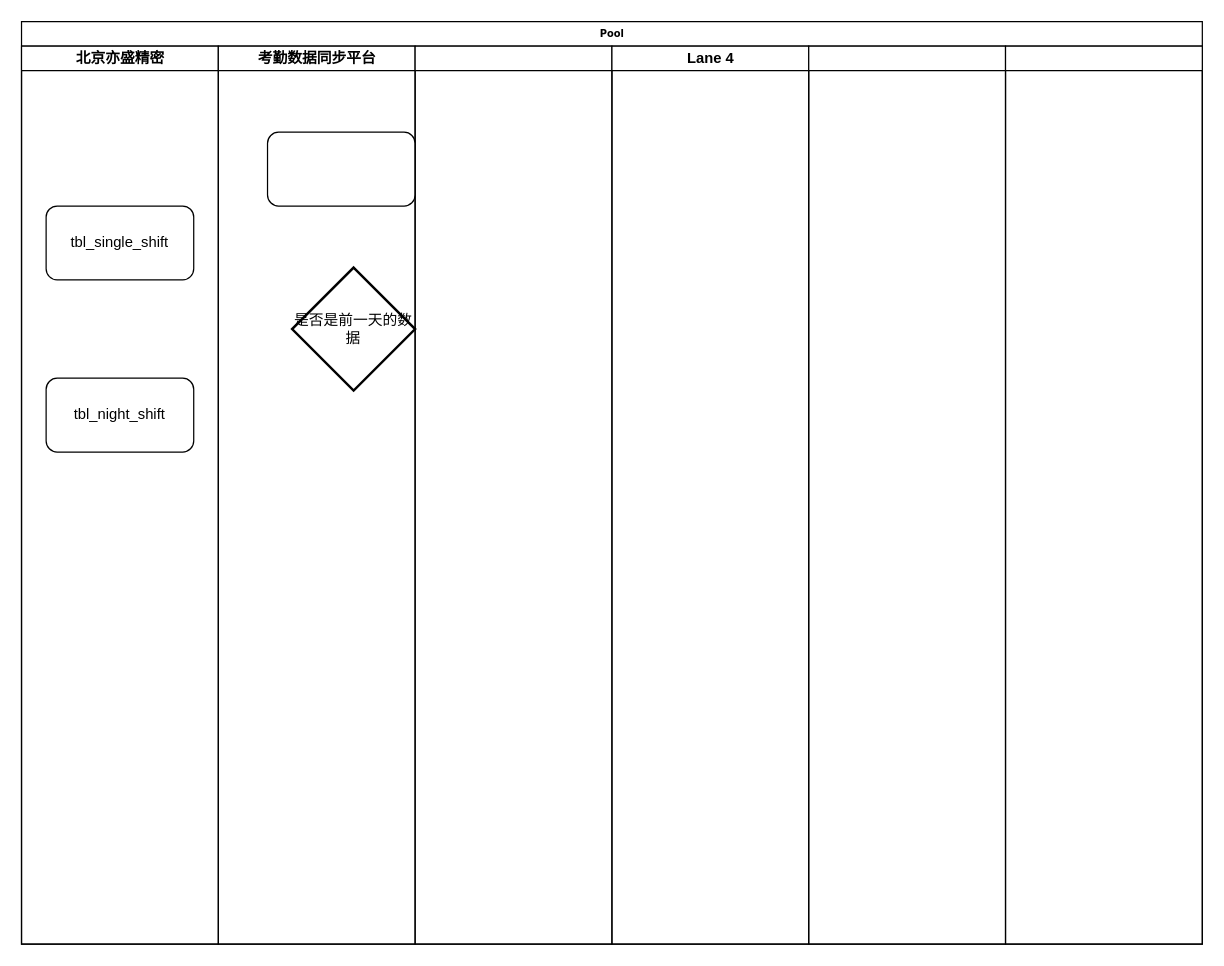
This 1224x966 diagram has some shape labels left out. Each missing label, with the centre of its shape:
Lane 5: the point at 906,494
Lane 6: the point at 1103,494
大雨 考勤系统: the point at 513,494
定时任务凌晨2点或者手动触发: the point at 340,168
